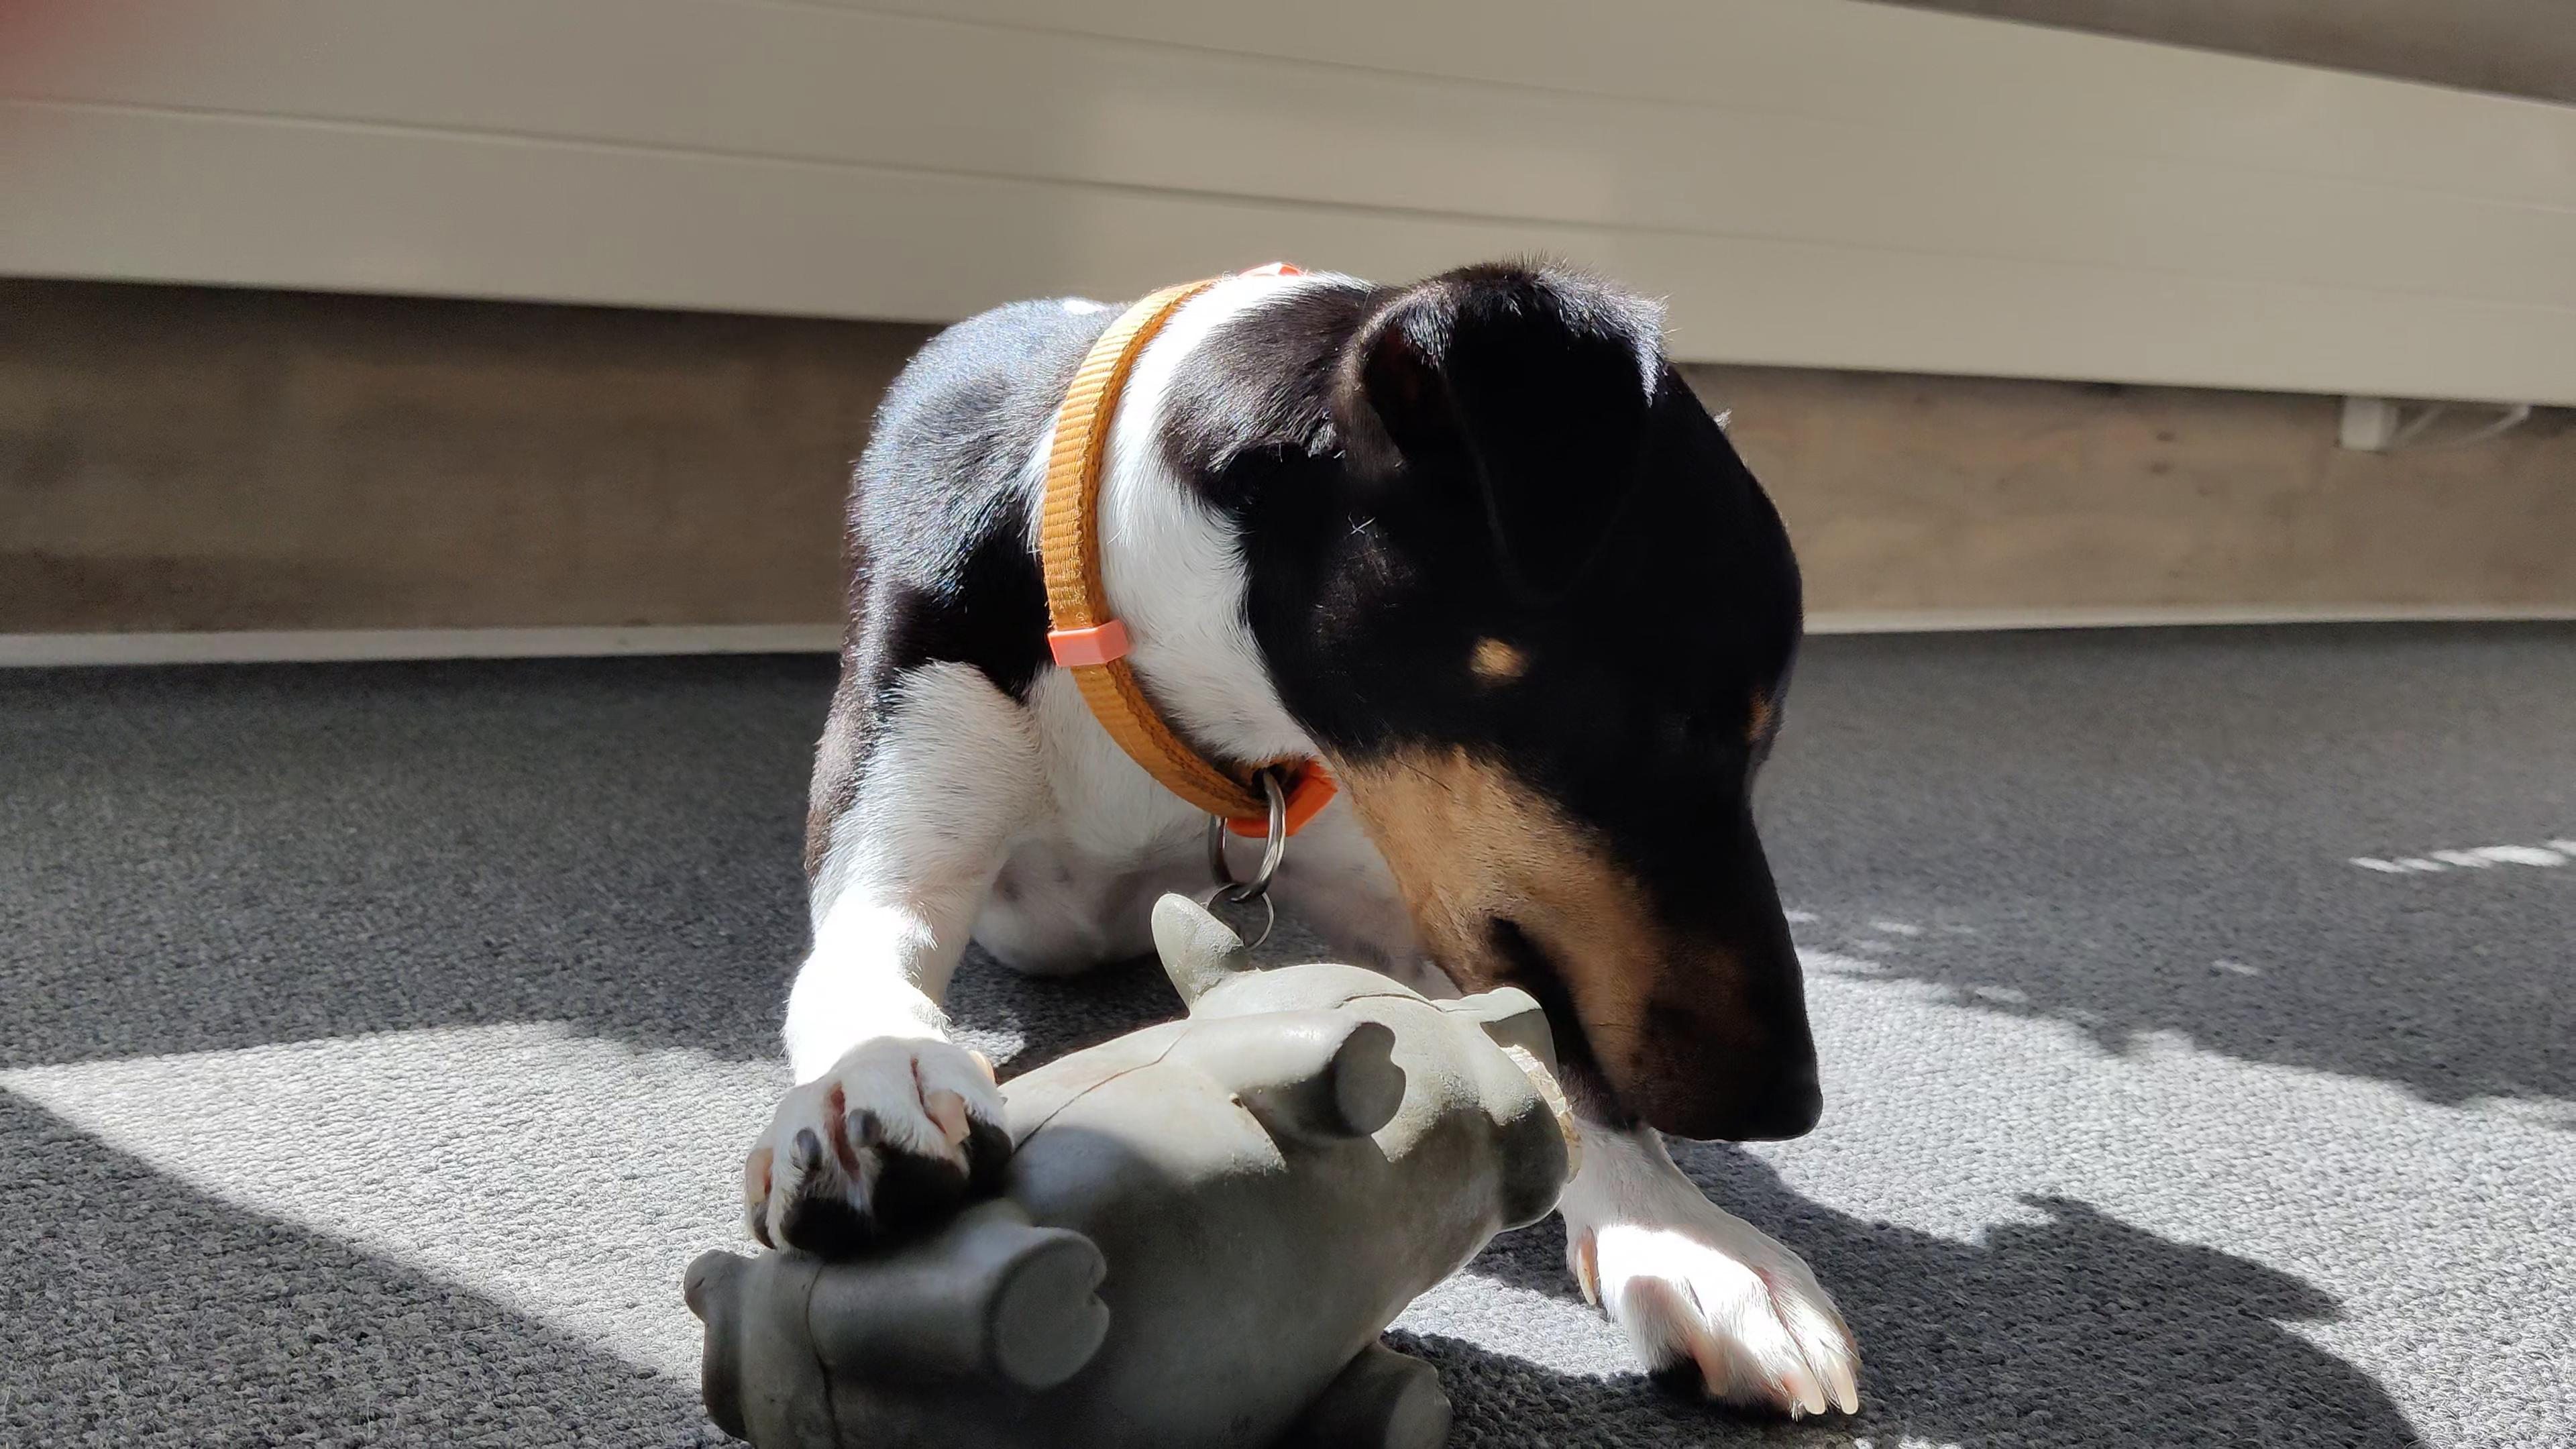Dog: (736, 246, 1884, 1426)
